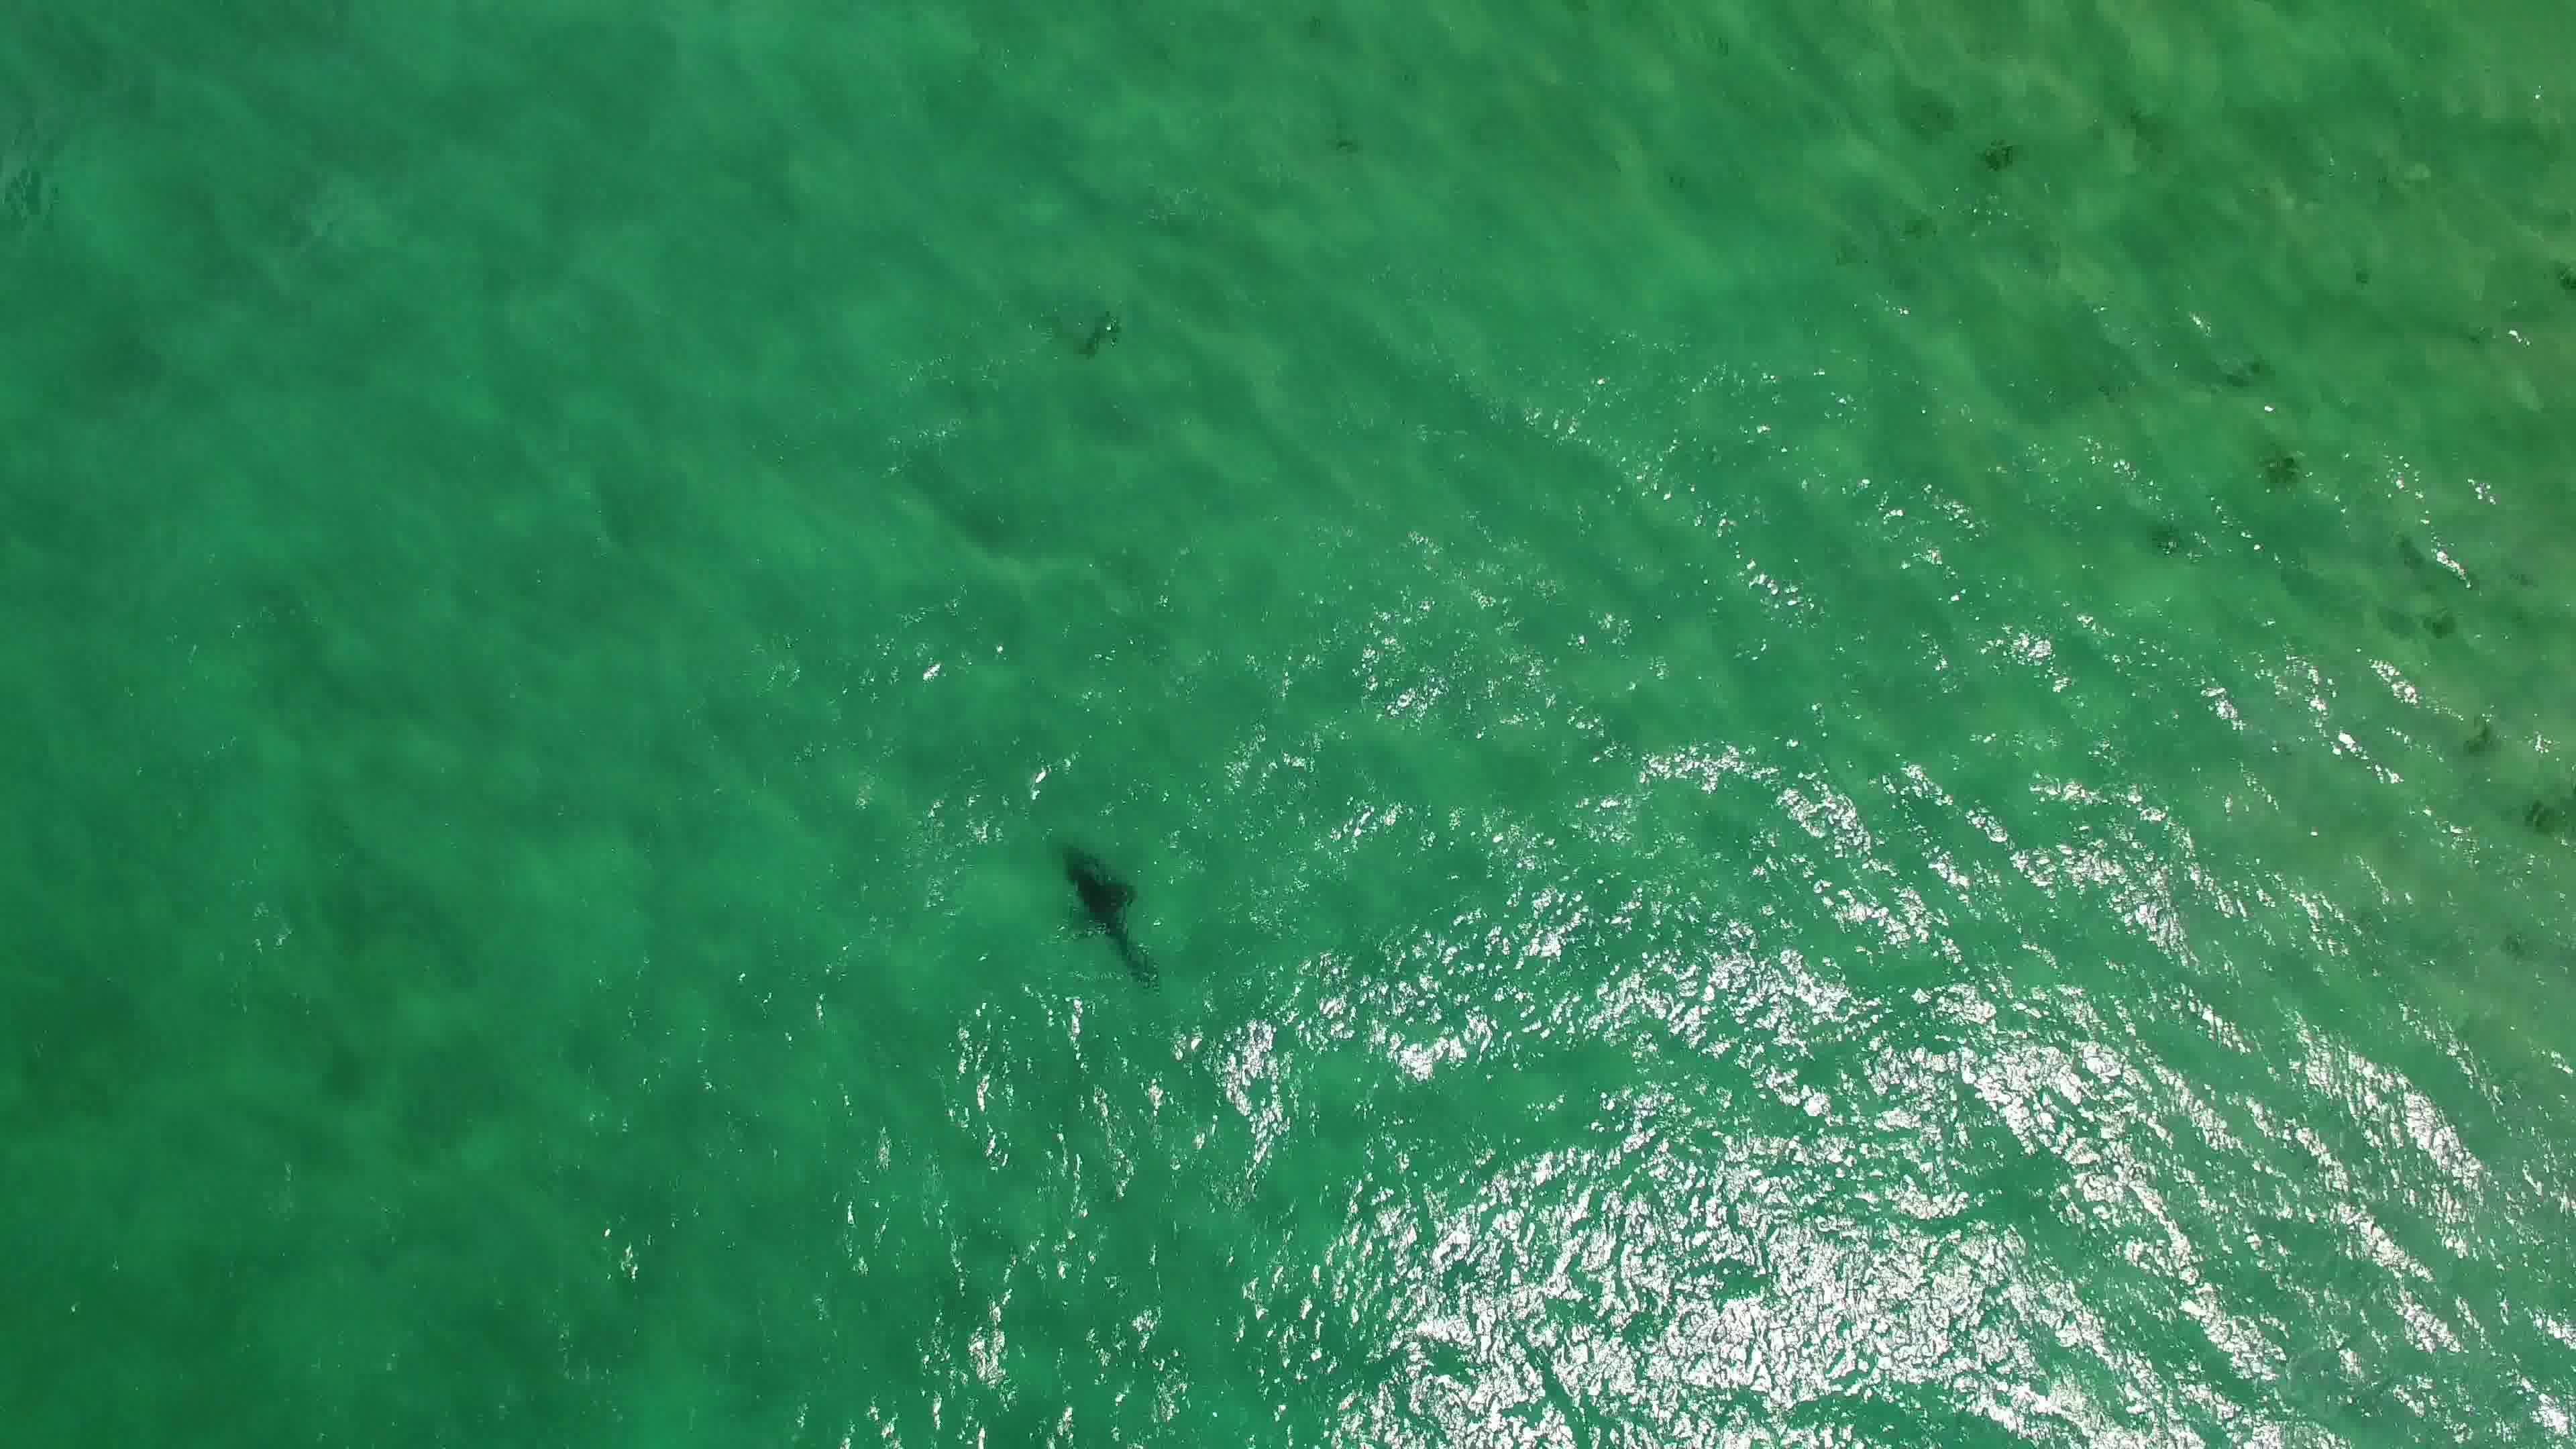shark: (1047, 839, 1166, 991)
